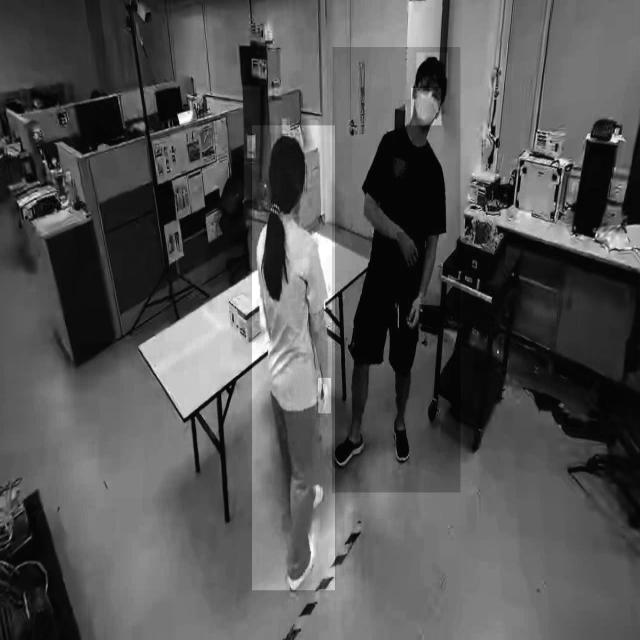face_mask: (411, 88, 441, 125)
hand_noglove: (396, 232, 421, 268), (405, 292, 424, 330), (317, 378, 331, 414)
head_nohelmet: (270, 133, 306, 171), (416, 52, 448, 80)
person: (332, 47, 460, 493), (251, 125, 335, 591)
shoes: (332, 430, 366, 470), (392, 411, 411, 464)
